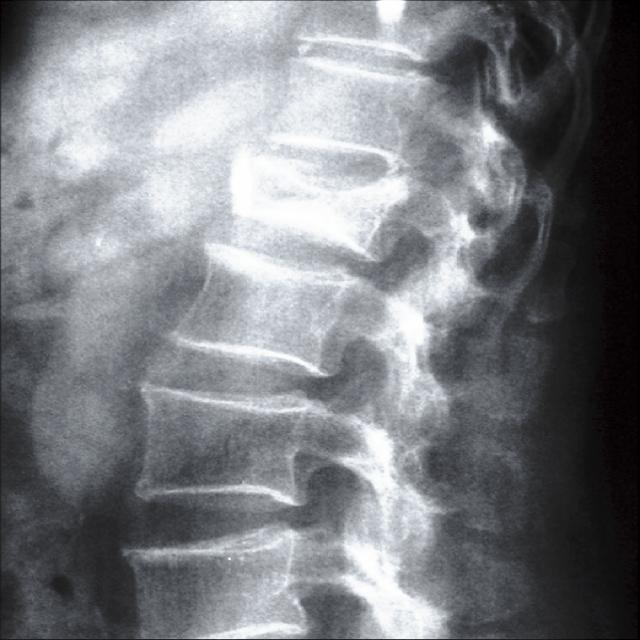Compression-Crush Fracutre: (227, 146, 418, 258)
